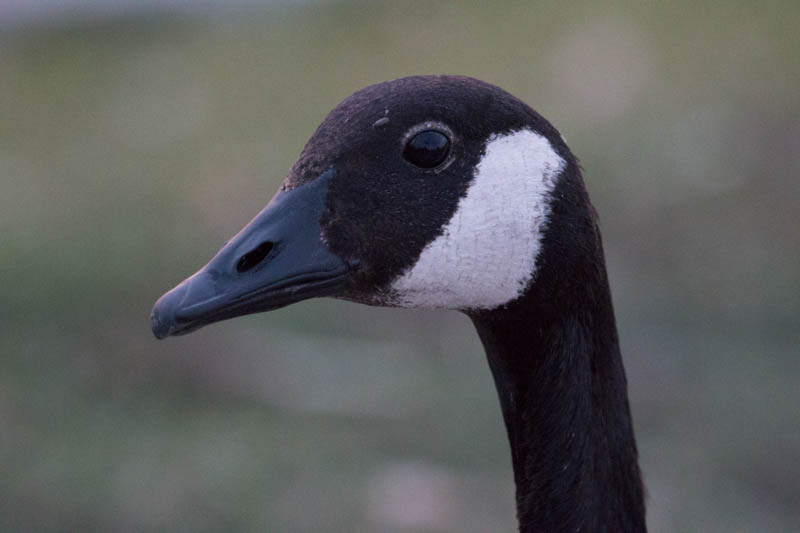goose-head: (149, 73, 599, 340)
